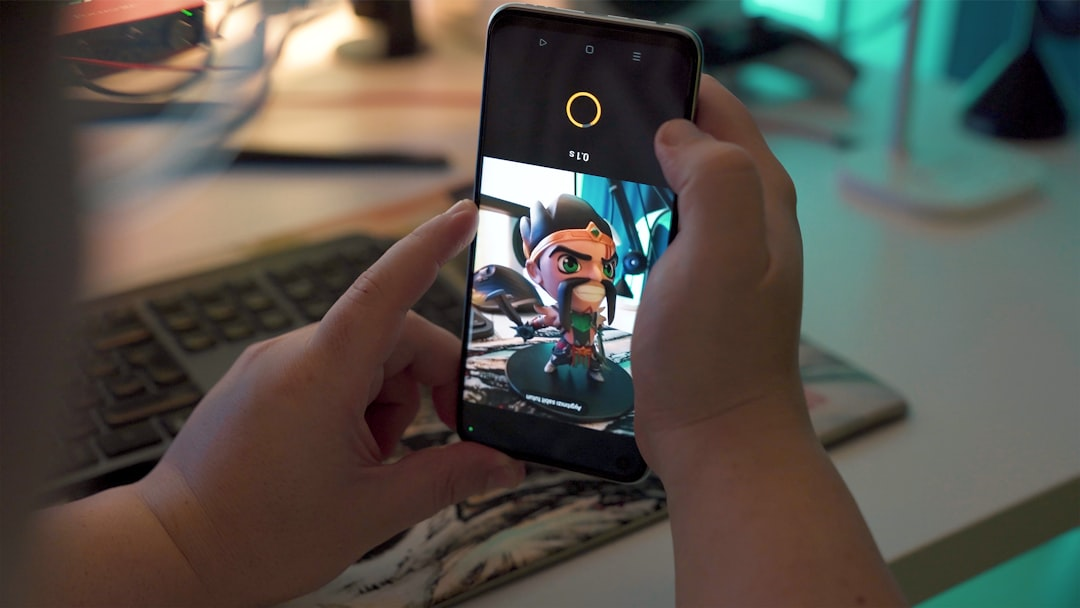phone: (453, 4, 705, 483)
